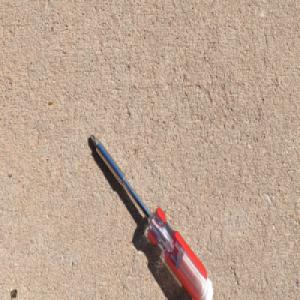Screwdriver: (89, 131, 213, 300)
